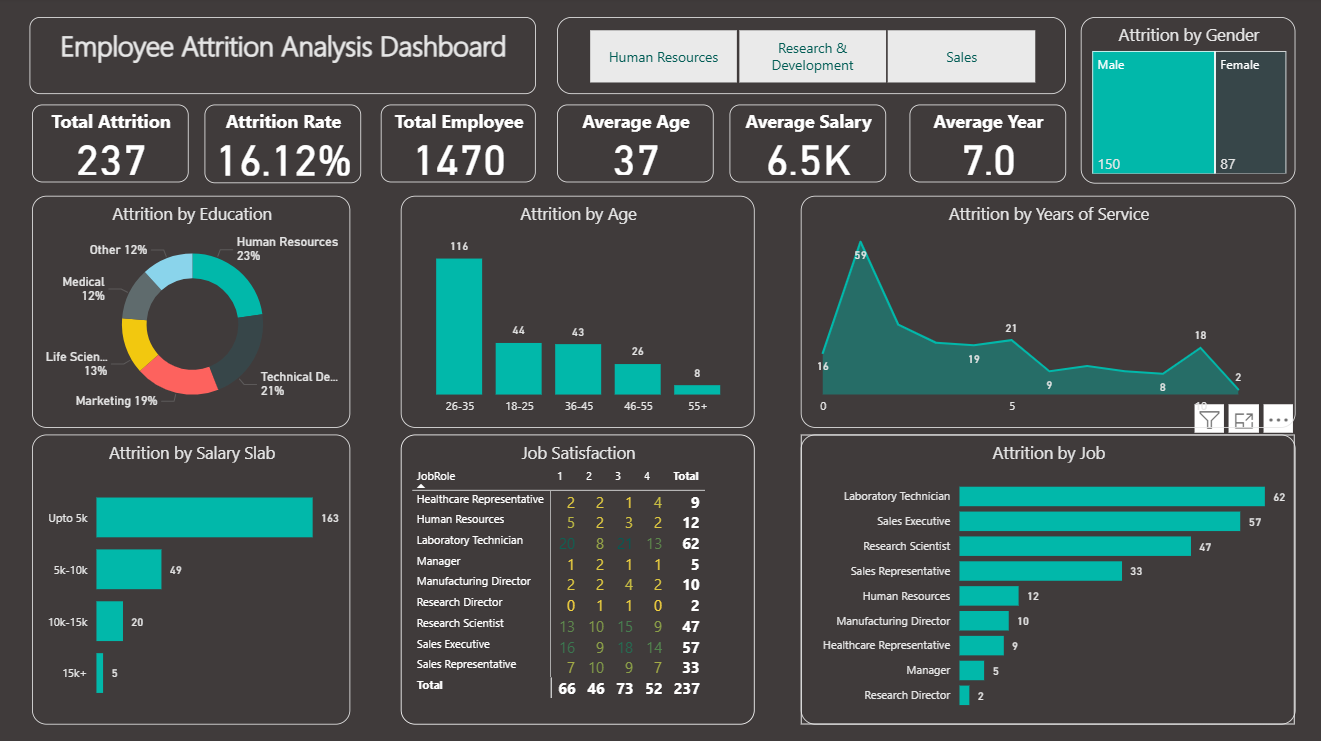

The dashboard page shown, as its layout file describes it:
{"tool":"powerbi","page":{"name":"Page 1","canvas":[1280,720],"ordinal":0},"visuals":[{"type":"card","title":"Total Employee","fields":{"Values":["CountNonNull(HR_Analytics.EmpID)"]},"box":[370.5,104.3,149.6,75.5],"z":0},{"type":"card","title":"Total Attrition","fields":{"Values":["Sum(HR_Analytics.Attrition_Count)"]},"box":[34.3,104.3,150.9,75.5],"z":1000},{"type":"card","title":"Attrition Rate","fields":{"Values":["HR_Analytics.Attrition_Rate"]},"box":[209.9,104.3,150.9,75.5],"z":2000},{"type":"card","title":"Average Age","fields":{"Values":["Avg(HR_Analytics.Age)"]},"box":[540.7,104.3,150.9,75.5],"z":3000},{"type":"card","title":"Average Salary","fields":{"Values":["Avg(HR_Analytics.MonthlyIncome)"]},"box":[706.7,104.3,150.9,75.5],"z":4000},{"type":"card","title":"Average Year","fields":{"Values":["Avg(HR_Analytics.YearsAtCompany)"]},"box":[881,104.3,150.9,75.5],"z":5000},{"type":"donutChart","title":"Attrition by Education","fields":{"Category":["HR_Analytics.EducationField"],"Y":["HR_Analytics.Attrition_Rate"]},"box":[34.3,192.1,307.4,223.7],"z":6000},{"type":"columnChart","title":"Attrition by Age","fields":{"Category":["HR_Analytics.AgeGroup"],"Y":["Sum(HR_Analytics.Attrition_Count)"]},"box":[389.7,192.1,341.7,223.7],"z":7000},{"type":"barChart","title":"Attrition by Salary Slab","fields":{"Category":["HR_Analytics.SalarySlab"],"Y":["Sum(HR_Analytics.Attrition_Count)"]},"box":[34.3,422.6,307.4,279.9],"z":8000},{"type":"barChart","title":"Attrition by Job","fields":{"Y":["Sum(HR_Analytics.Attrition_Count)"],"Category":["HR_Analytics.JobRole"]},"box":[775.3,422.6,477.5,279.9],"z":9000},{"type":"areaChart","title":"Attrition by Years of Service","fields":{"Y":["Sum(HR_Analytics.Attrition_Count)"],"Category":["HR_Analytics.YearsAtCompany"]},"box":[775.3,192.1,477.5,223.7],"z":10000},{"type":"pivotTable","title":"Job Satisfaction","fields":{"Values":["Sum(HR_Analytics.Attrition_Count)"],"Columns":["HR_Analytics.JobSatisfaction"],"Rows":["HR_Analytics.JobRole"]},"box":[389.7,422.6,341.7,279.9],"z":11000},{"type":"treemap","title":"Attrition by Gender","fields":{"Values":["Sum(HR_Analytics.Attrition_Count)"],"Group":["HR_Analytics.Gender"]},"box":[1045.6,19.2,207.2,160.5],"z":12000},{"type":"slicer","fields":{"Values":["HR_Analytics.Department"]},"box":[540.7,19.2,491.3,74.1],"z":13000},{"type":"textbox","box":[31.6,19.2,488.5,74.1],"z":14000}]}

Visuals, with their boxes in screenshot pixels (x1, y1, x2, y2), scaled from the page's 1280x720 canvas onto the 1321x741 screenshot:
"Total Employee" card: rect(382, 107, 537, 185)
"Total Attrition" card: rect(35, 107, 191, 185)
"Attrition Rate" card: rect(217, 107, 372, 185)
"Average Age" card: rect(558, 107, 714, 185)
"Average Salary" card: rect(729, 107, 885, 185)
"Average Year" card: rect(909, 107, 1065, 185)
"Attrition by Education" donutChart: rect(35, 198, 353, 428)
"Attrition by Age" columnChart: rect(402, 198, 755, 428)
"Attrition by Salary Slab" barChart: rect(35, 435, 353, 723)
"Attrition by Job" barChart: rect(800, 435, 1293, 723)
"Attrition by Years of Service" areaChart: rect(800, 198, 1293, 428)
"Job Satisfaction" pivotTable: rect(402, 435, 755, 723)
"Attrition by Gender" treemap: rect(1079, 20, 1293, 185)
slicer - HR_Analytics.Department: rect(558, 20, 1065, 96)
textbox: rect(33, 20, 537, 96)
